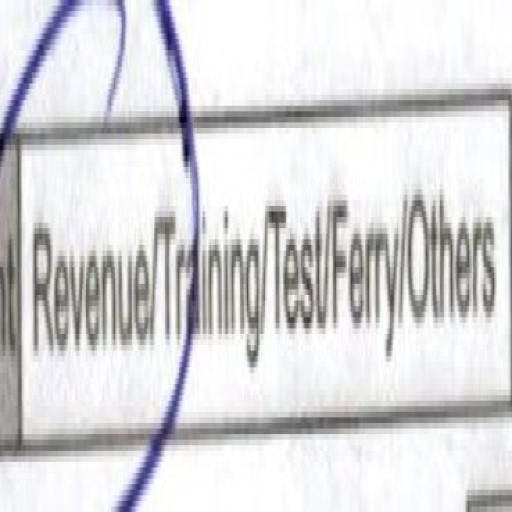check: (19, 0, 156, 512)
